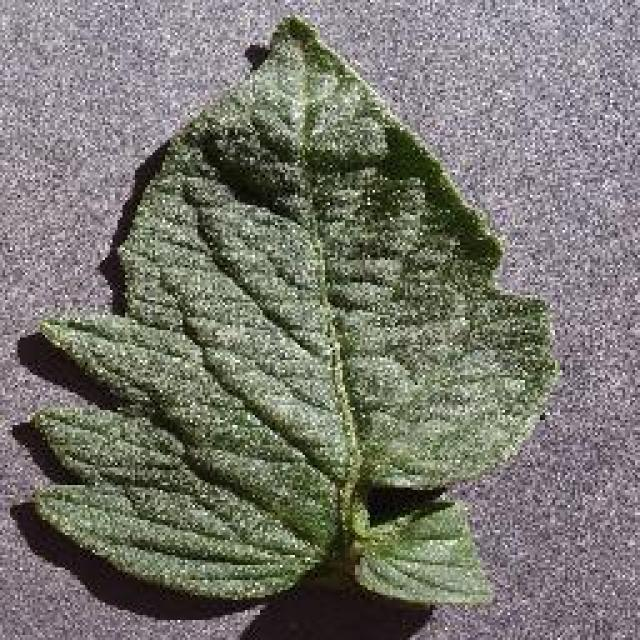Tomato___healthy: (24, 17, 566, 609)
